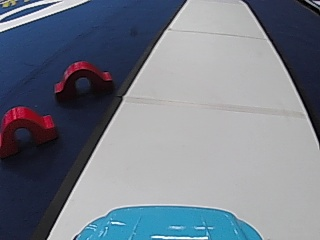bridge: (0, 103, 59, 154), (51, 57, 114, 102)
